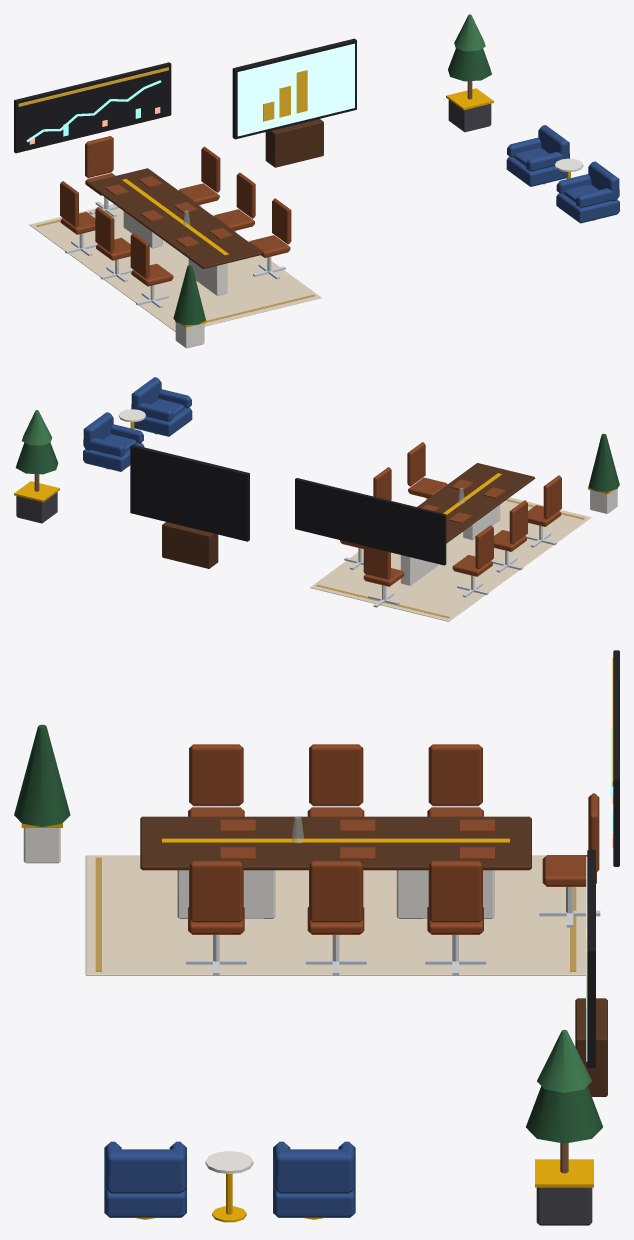
File: einrichtung_boardroom.glb
3 renders of one model, top to bottom at view 1: azimuth 30°, elevation 25°; view 2: azimuth 150°, elevation 25°; view 3: azimuth 270°, elevation 25°, orthographic. The views are drawn at different scales.
Visible parts, largest first — view 1: einrichtung_boardroom; view 2: einrichtung_boardroom; view 3: einrichtung_boardroom.
Part boxes in pixels (box(x1,y1,x2,y2)): einrichtung_boardroom: box(14, 14, 619, 348); einrichtung_boardroom: box(14, 377, 619, 621); einrichtung_boardroom: box(14, 650, 619, 1225).
Size of the model in its own units: 8.42 by 2.05 by 5.57.
